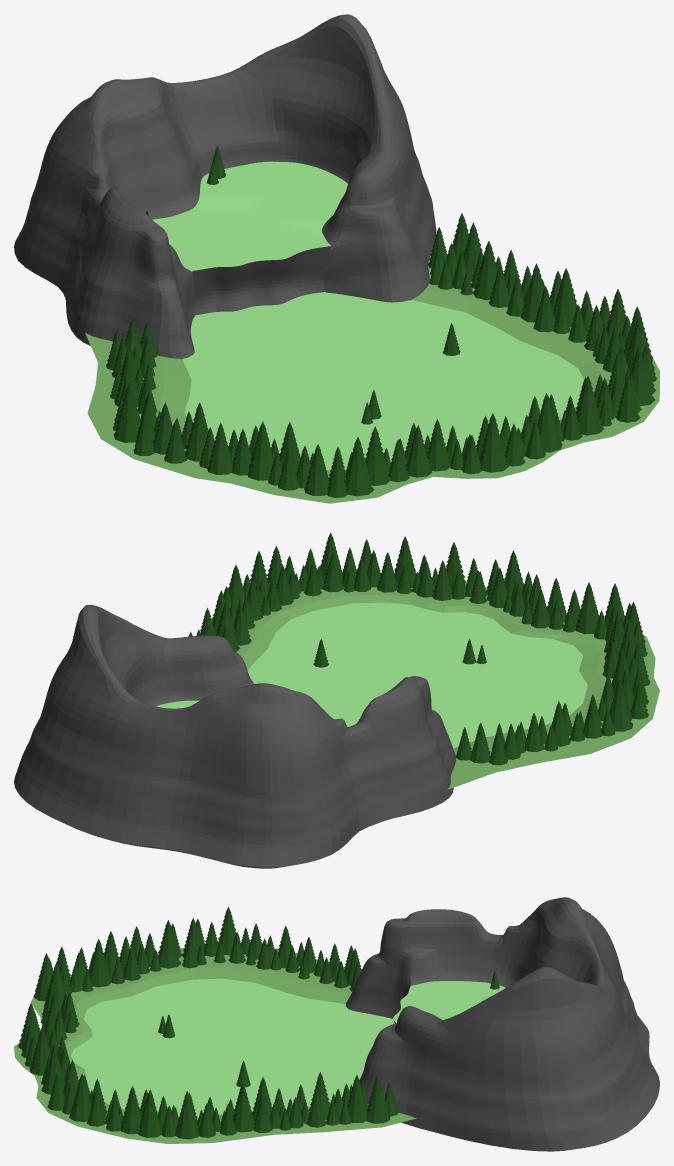
File: Concept Environment 2.fbx
3 views of the same model, one above another, from view 1: azimuth 30°, elevation 25°; view 2: azimuth 150°, elevation 25°; view 3: azimuth 270°, elevation 25° (orthographic). The views are drawn at different scales.
Parts seen in each view (by area): view 1: MountainBorder, LowerLevel, UpperLevel, LowerBorder, Cliff, Tree.059, Tree.043, Tree.076, Tree.034, Tree.016, Tree.045, Tree.069 (+9 smaller); view 2: MountainBorder, LowerLevel, LowerBorder, Tree.045, Tree.016, Tree.076, Tree.006, Tree.002, Tree.075, Tree.085, Tree.068, Tree.069 (+1 smaller); view 3: MountainBorder, LowerLevel, LowerBorder, UpperLevel, Tree.103, Tree.124, Tree.114, Tree.027, Tree.112, Tree.036, Tree.086, Tree.095 (+15 smaller).
Boxes of the visible parts, <box> form: MountainBorder: <box>14,14,436,358</box>; LowerLevel: <box>182,292,583,470</box>; UpperLevel: <box>152,161,347,270</box>; LowerBorder: <box>85,253,659,503</box>; Cliff: <box>192,246,330,315</box>; Tree.059: <box>478,413,508,472</box>; Tree.043: <box>344,437,374,496</box>; Tree.076: <box>576,376,603,435</box>; Tree.034: <box>247,421,274,480</box>; Tree.016: <box>113,383,140,442</box>; Tree.045: <box>365,426,390,485</box>; Tree.069: <box>537,393,562,452</box>; MountainBorder: <box>14,605,455,868</box>; LowerLevel: <box>247,602,587,748</box>; LowerBorder: <box>211,587,659,789</box>; Tree.045: <box>575,582,599,634</box>; Tree.016: <box>609,679,633,731</box>; Tree.076: <box>394,536,416,587</box>; Tree.006: <box>551,701,570,746</box>; Tree.002: <box>469,722,490,763</box>; Tree.075: <box>377,552,397,592</box>; Tree.085: <box>323,552,343,592</box>; Tree.068: <box>432,560,452,600</box>; Tree.069: <box>445,542,466,591</box>; MountainBorder: <box>345,897,659,1151</box>; LowerLevel: <box>71,978,394,1117</box>; LowerBorder: <box>14,947,416,1143</box>; UpperLevel: <box>393,981,505,1023</box>; Tree.103: <box>175,1091,199,1139</box>; Tree.124: <box>366,1075,390,1123</box>; Tree.114: <box>138,1089,162,1137</box>; Tree.027: <box>158,920,181,968</box>; Tree.112: <box>233,1084,254,1132</box>; Tree.036: <box>88,939,111,987</box>; Tree.086: <box>69,1074,91,1121</box>; Tree.095: <box>120,1086,141,1134</box>.
Bounding box in the file's own units: 14708 × 5508 × 20087.
